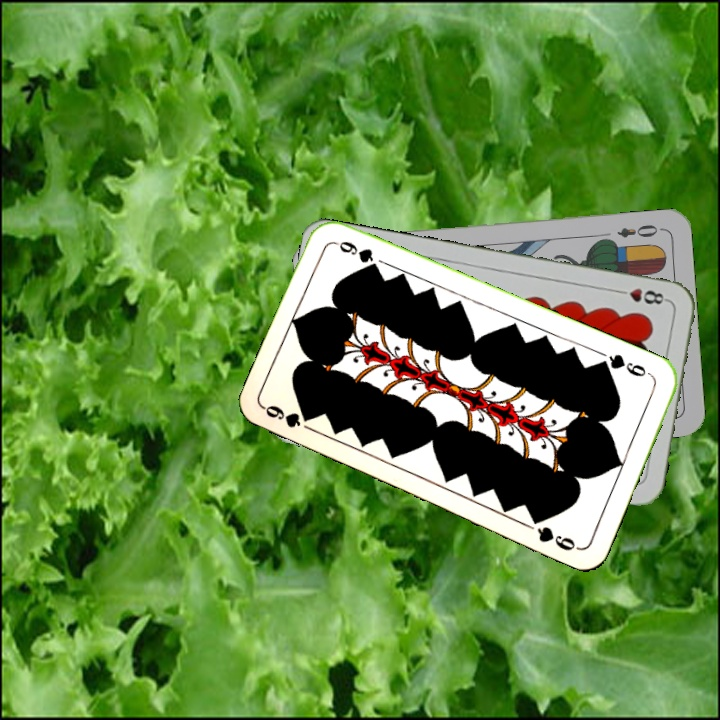EO: (613, 220, 665, 240)
G9: (596, 350, 655, 380), (261, 401, 310, 431)
H8: (612, 284, 671, 307)
